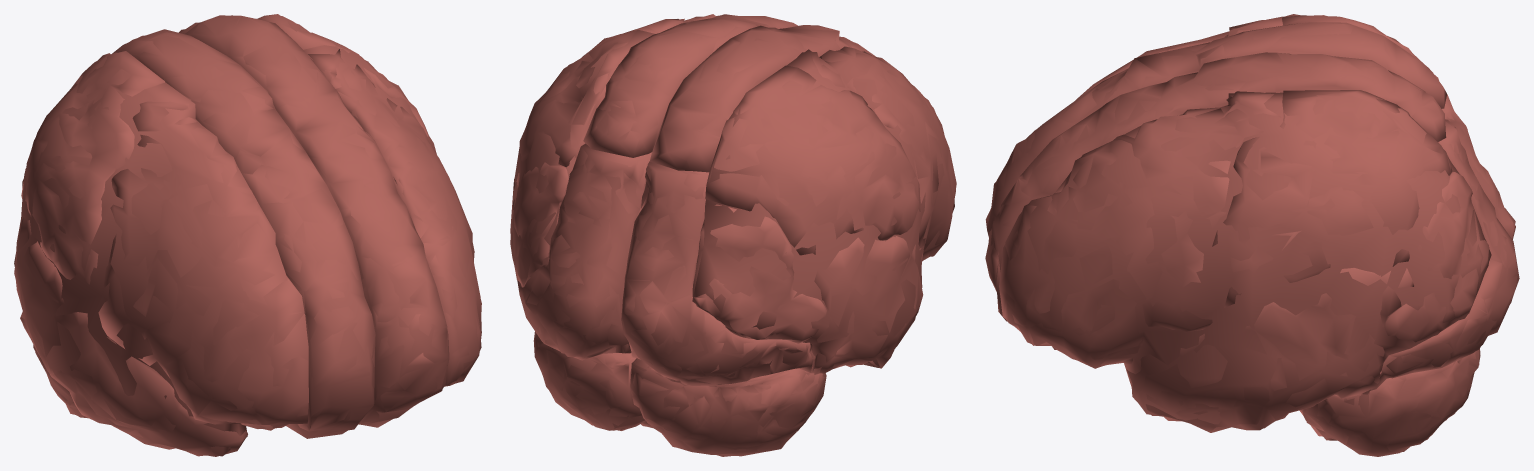
Rendered from atlas_nervous_mni152.territories.LOD3.glb.
3 renders of one model, left to right at view 1: azimuth 30°, elevation 25°; view 2: azimuth 150°, elevation 25°; view 3: azimuth 270°, elevation 25°, orthographic. The views are drawn at different scales.
Visible parts, largest first — view 1: ATLAS.NERVOUS.MNI152.TERRITORIES.MCA_MAJOR_TERRITORY.R, ATLAS.NERVOUS.MNI152.TERRITORIES.MCA_TERRITORY_FRONTAL.R, ATLAS.NERVOUS.MNI152.TERRITORIES.ACA_MAJOR_TERRITORY.L, ATLAS.NERVOUS.MNI152.TERRITORIES.ACA_MAJOR_TERRITORY.R, ATLAS.NERVOUS.MNI152.TERRITORIES.ACA_TERRITORY.R, ATLAS.NERVOUS.MNI152.TERRITORIES.ACA_TERRITORY.L, ATLAS.NERVOUS.MNI152.TERRITORIES.MCA_TERRITORY_PARIETAL.R, ATLAS.NERVOUS.MNI152.TERRITORIES.MCA_TERRITORY_TEMPORAL.R, ATLAS.NERVOUS.MNI152.TERRITORIES.MCA_TERRITORY_FRONTAL.L, ATLAS.NERVOUS.MNI152.TERRITORIES.MCA_MAJOR_TERRITORY.L, ATLAS.NERVOUS.MNI152.TERRITORIES.MCA_TERRITORY_PARIETAL.L; view 2: ATLAS.NERVOUS.MNI152.TERRITORIES.MCA_MAJOR_TERRITORY.R, ATLAS.NERVOUS.MNI152.TERRITORIES.MCA_TERRITORY_PARIETAL.R, ATLAS.NERVOUS.MNI152.TERRITORIES.PCA_TERRITORY_OCCIPITAL.R, ATLAS.NERVOUS.MNI152.TERRITORIES.INFERIOR_CEREBELLAR_PICA_AI (×2), ATLAS.NERVOUS.MNI152.TERRITORIES.PCA_MAJOR_TERRITORY.R, ATLAS.NERVOUS.MNI152.TERRITORIES.VERTEBROBASILAR_MAJOR_TERRI (×2), ATLAS.NERVOUS.MNI152.TERRITORIES.PCA_MAJOR_TERRITORY.L, ATLAS.NERVOUS.MNI152.TERRITORIES.PCA_TERRITORY_OCCIPITAL.L, ATLAS.NERVOUS.MNI152.TERRITORIES.MCA_TERRITORY_TEMPORAL.R, ATLAS.NERVOUS.MNI152.TERRITORIES.MCA_TERRITORY_OCCIPITAL.R, ATLAS.NERVOUS.MNI152.TERRITORIES.ACA_TERRITORY.R, ATLAS.NERVOUS.MNI152.TERRITORIES.MCA_TERRITORY_FRONTAL.R (+6 smaller); view 3: ATLAS.NERVOUS.MNI152.TERRITORIES.MCA_MAJOR_TERRITORY.L, ATLAS.NERVOUS.MNI152.TERRITORIES.MCA_TERRITORY_FRONTAL.L, ATLAS.NERVOUS.MNI152.TERRITORIES.MCA_TERRITORY_PARIETAL.L, ATLAS.NERVOUS.MNI152.TERRITORIES.MCA_TERRITORY_TEMPORAL.L, ATLAS.NERVOUS.MNI152.TERRITORIES.ACA_MAJOR_TERRITORY.L, ATLAS.NERVOUS.MNI152.TERRITORIES.ACA_TERRITORY.L, ATLAS.NERVOUS.MNI152.TERRITORIES.ACA_TERRITORY.R, ATLAS.NERVOUS.MNI152.TERRITORIES.ACA_MAJOR_TERRITORY.R, ATLAS.NERVOUS.MNI152.TERRITORIES.MCA_TERRITORY_OCCIPITAL.L, ATLAS.NERVOUS.MNI152.TERRITORIES.INFERIOR_CEREBELLAR_PICA_AI, ATLAS.NERVOUS.MNI152.TERRITORIES.VERTEBROBASILAR_MAJOR_TERRI, ATLAS.NERVOUS.MNI152.TERRITORIES.PCA_TERRITORY_OCCIPITAL.L (+5 smaller).
Part boxes in pixels (<box>): ATLAS.NERVOUS.MNI152.TERRITORIES.MCA_MAJOR_TERRITORY.R: <box>14,55,308,456</box>; ATLAS.NERVOUS.MNI152.TERRITORIES.MCA_TERRITORY_FRONTAL.R: <box>98,95,308,428</box>; ATLAS.NERVOUS.MNI152.TERRITORIES.ACA_MAJOR_TERRITORY.L: <box>179,15,448,427</box>; ATLAS.NERVOUS.MNI152.TERRITORIES.ACA_MAJOR_TERRITORY.R: <box>115,29,375,438</box>; ATLAS.NERVOUS.MNI152.TERRITORIES.ACA_TERRITORY.R: <box>112,32,375,438</box>; ATLAS.NERVOUS.MNI152.TERRITORIES.ACA_TERRITORY.L: <box>179,15,449,427</box>; ATLAS.NERVOUS.MNI152.TERRITORIES.MCA_TERRITORY_PARIETAL.R: <box>21,51,164,284</box>; ATLAS.NERVOUS.MNI152.TERRITORIES.MCA_TERRITORY_TEMPORAL.R: <box>15,216,247,456</box>; ATLAS.NERVOUS.MNI152.TERRITORIES.MCA_TERRITORY_FRONTAL.L: <box>308,49,481,385</box>; ATLAS.NERVOUS.MNI152.TERRITORIES.MCA_MAJOR_TERRITORY.L: <box>281,16,481,386</box>; ATLAS.NERVOUS.MNI152.TERRITORIES.MCA_TERRITORY_PARIETAL.L: <box>256,14,428,136</box>; ATLAS.NERVOUS.MNI152.TERRITORIES.MCA_MAJOR_TERRITORY.R: <box>692,49,955,374</box>; ATLAS.NERVOUS.MNI152.TERRITORIES.MCA_TERRITORY_PARIETAL.R: <box>705,65,920,255</box>; ATLAS.NERVOUS.MNI152.TERRITORIES.PCA_TERRITORY_OCCIPITAL.R: <box>622,161,810,385</box>; ATLAS.NERVOUS.MNI152.TERRITORIES.INFERIOR_CEREBELLAR_PICA_AI (×2): <box>533,334,826,456</box>; ATLAS.NERVOUS.MNI152.TERRITORIES.PCA_MAJOR_TERRITORY.R: <box>621,167,812,384</box>; ATLAS.NERVOUS.MNI152.TERRITORIES.VERTEBROBASILAR_MAJOR_TERRI (×2): <box>534,331,826,456</box>; ATLAS.NERVOUS.MNI152.TERRITORIES.PCA_MAJOR_TERRITORY.L: <box>517,147,647,360</box>; ATLAS.NERVOUS.MNI152.TERRITORIES.PCA_TERRITORY_OCCIPITAL.L: <box>518,143,651,360</box>; ATLAS.NERVOUS.MNI152.TERRITORIES.MCA_TERRITORY_TEMPORAL.R: <box>810,236,923,373</box>; ATLAS.NERVOUS.MNI152.TERRITORIES.MCA_TERRITORY_OCCIPITAL.R: <box>692,204,826,343</box>; ATLAS.NERVOUS.MNI152.TERRITORIES.ACA_TERRITORY.R: <box>650,25,869,171</box>; ATLAS.NERVOUS.MNI152.TERRITORIES.MCA_TERRITORY_FRONTAL.R: <box>797,46,956,256</box>; ATLAS.NERVOUS.MNI152.TERRITORIES.MCA_MAJOR_TERRITORY.L: <box>999,92,1491,432</box>; ATLAS.NERVOUS.MNI152.TERRITORIES.MCA_TERRITORY_FRONTAL.L: <box>999,91,1280,368</box>; ATLAS.NERVOUS.MNI152.TERRITORIES.MCA_TERRITORY_PARIETAL.L: <box>1212,90,1452,307</box>; ATLAS.NERVOUS.MNI152.TERRITORIES.MCA_TERRITORY_TEMPORAL.L: <box>1127,268,1413,431</box>; ATLAS.NERVOUS.MNI152.TERRITORIES.ACA_MAJOR_TERRITORY.L: <box>985,52,1446,349</box>; ATLAS.NERVOUS.MNI152.TERRITORIES.ACA_TERRITORY.L: <box>988,52,1445,349</box>; ATLAS.NERVOUS.MNI152.TERRITORIES.ACA_TERRITORY.R: <box>986,22,1446,220</box>; ATLAS.NERVOUS.MNI152.TERRITORIES.ACA_MAJOR_TERRITORY.R: <box>985,22,1444,236</box>; ATLAS.NERVOUS.MNI152.TERRITORIES.MCA_TERRITORY_OCCIPITAL.L: <box>1384,172,1489,342</box>; ATLAS.NERVOUS.MNI152.TERRITORIES.INFERIOR_CEREBELLAR_PICA_AI: <box>1302,350,1479,452</box>; ATLAS.NERVOUS.MNI152.TERRITORIES.VERTEBROBASILAR_MAJOR_TERRI: <box>1300,348,1480,456</box>; ATLAS.NERVOUS.MNI152.TERRITORIES.PCA_TERRITORY_OCCIPITAL.L: <box>1383,121,1517,378</box>.
Bounding box in the file's own units: 0.1468 × 0.1526 × 0.1874.
